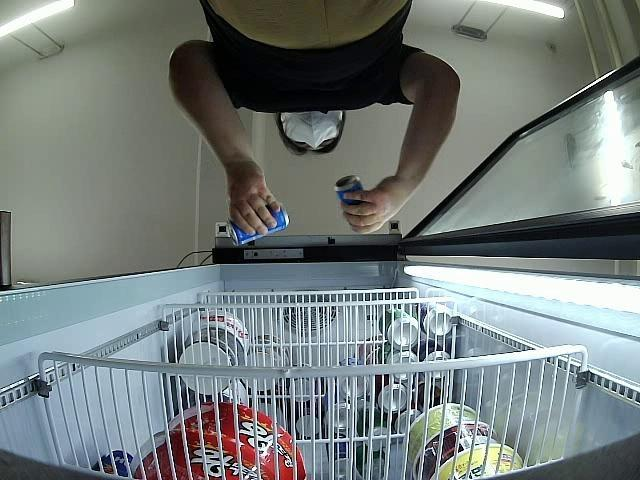15_letsbe: (227, 210, 292, 246), (336, 174, 366, 214)
